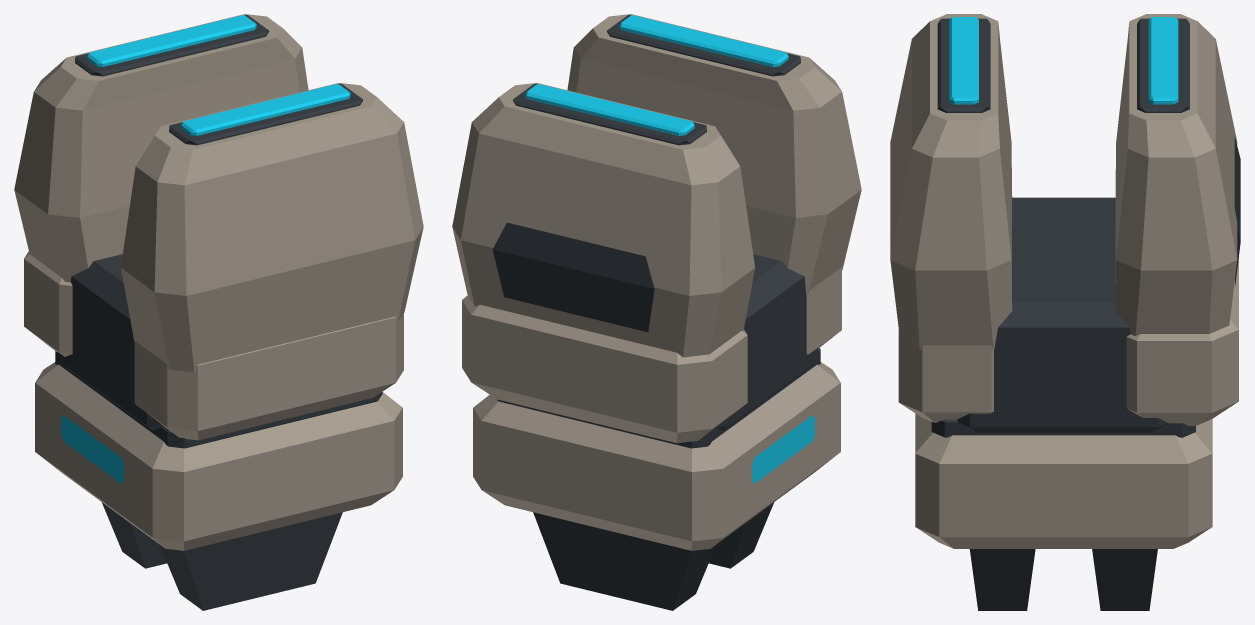
File: pull.obj
3 renders of one model, left to right at view 1: azimuth 30°, elevation 25°; view 2: azimuth 150°, elevation 25°; view 3: azimuth 270°, elevation 25°, orthographic. The views are drawn at different scales.
Parts seen in each view (by area): view 1: pull; view 2: pull; view 3: pull.
Part boxes in pixels (x1=…): pull: x1=14, y1=14, x2=423, y2=610; pull: x1=452, y1=14, x2=861, y2=610; pull: x1=890, y1=14, x2=1240, y2=610.
Size of the model in its own units: 0.598 by 1.05 by 0.636.
